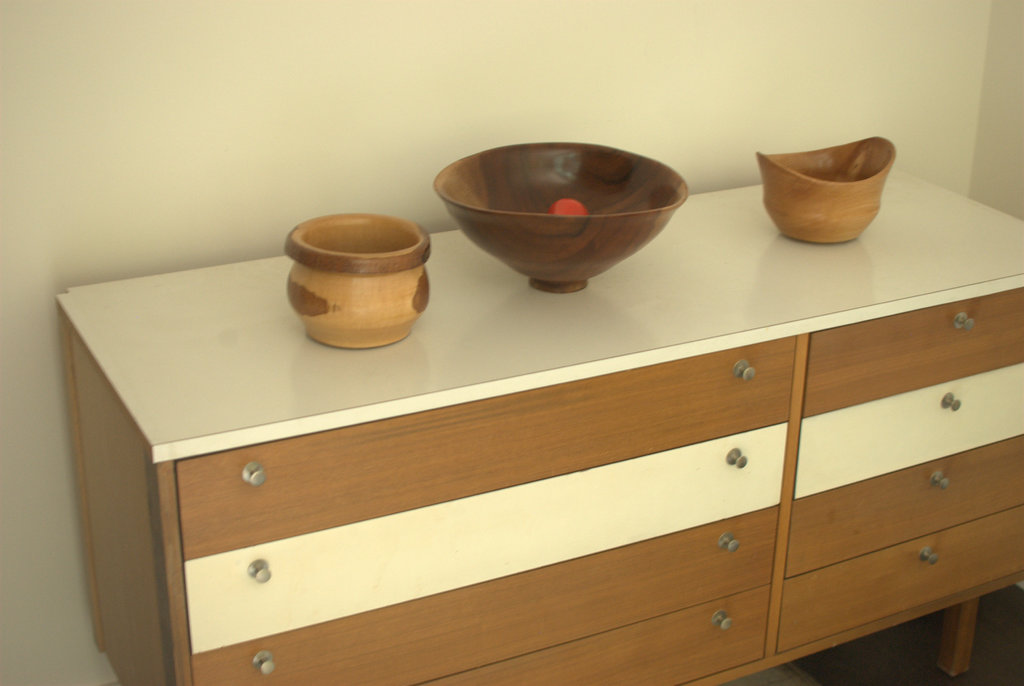cabinet door: (203, 376, 733, 471), (185, 477, 742, 544), (210, 541, 730, 612), (206, 613, 726, 681), (827, 380, 1024, 453), (809, 519, 1023, 581), (830, 313, 1024, 376), (814, 456, 1024, 512)
handle: (242, 542, 279, 587), (717, 516, 750, 564), (932, 385, 971, 423), (727, 350, 758, 393), (246, 649, 282, 684), (913, 535, 946, 573), (235, 460, 274, 492), (722, 441, 750, 479), (926, 462, 950, 499), (710, 604, 734, 638), (958, 306, 980, 342)
